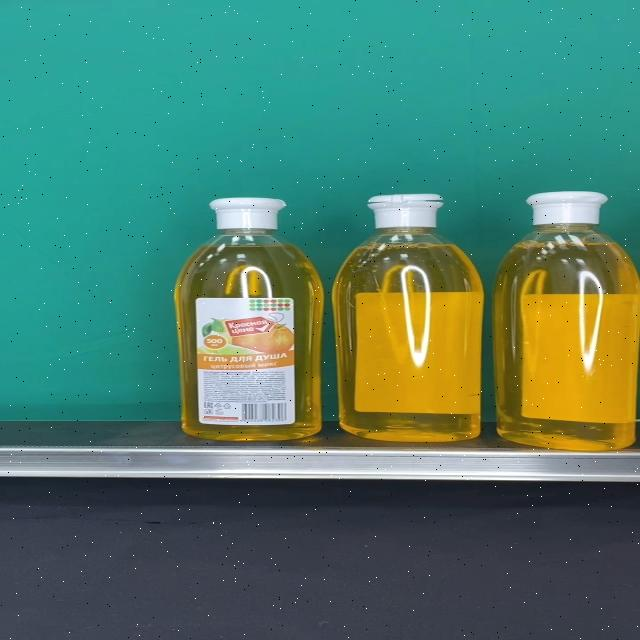Bottle: (495, 190, 640, 452), (334, 192, 483, 442), (176, 196, 324, 440)
Cap: (527, 191, 609, 226), (210, 197, 288, 231), (368, 193, 444, 227)
